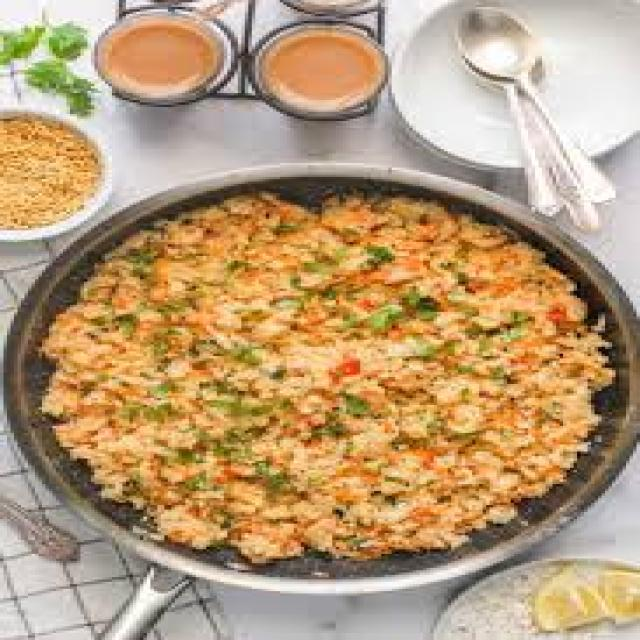POHA: (38, 189, 605, 559)
